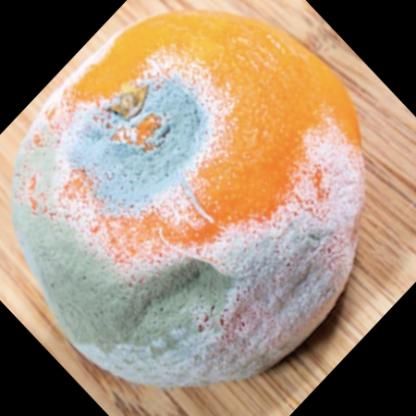rotten: (15, 12, 365, 388)
